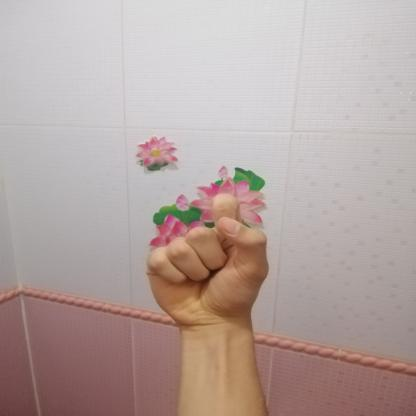FAA: (124, 186, 284, 335)
